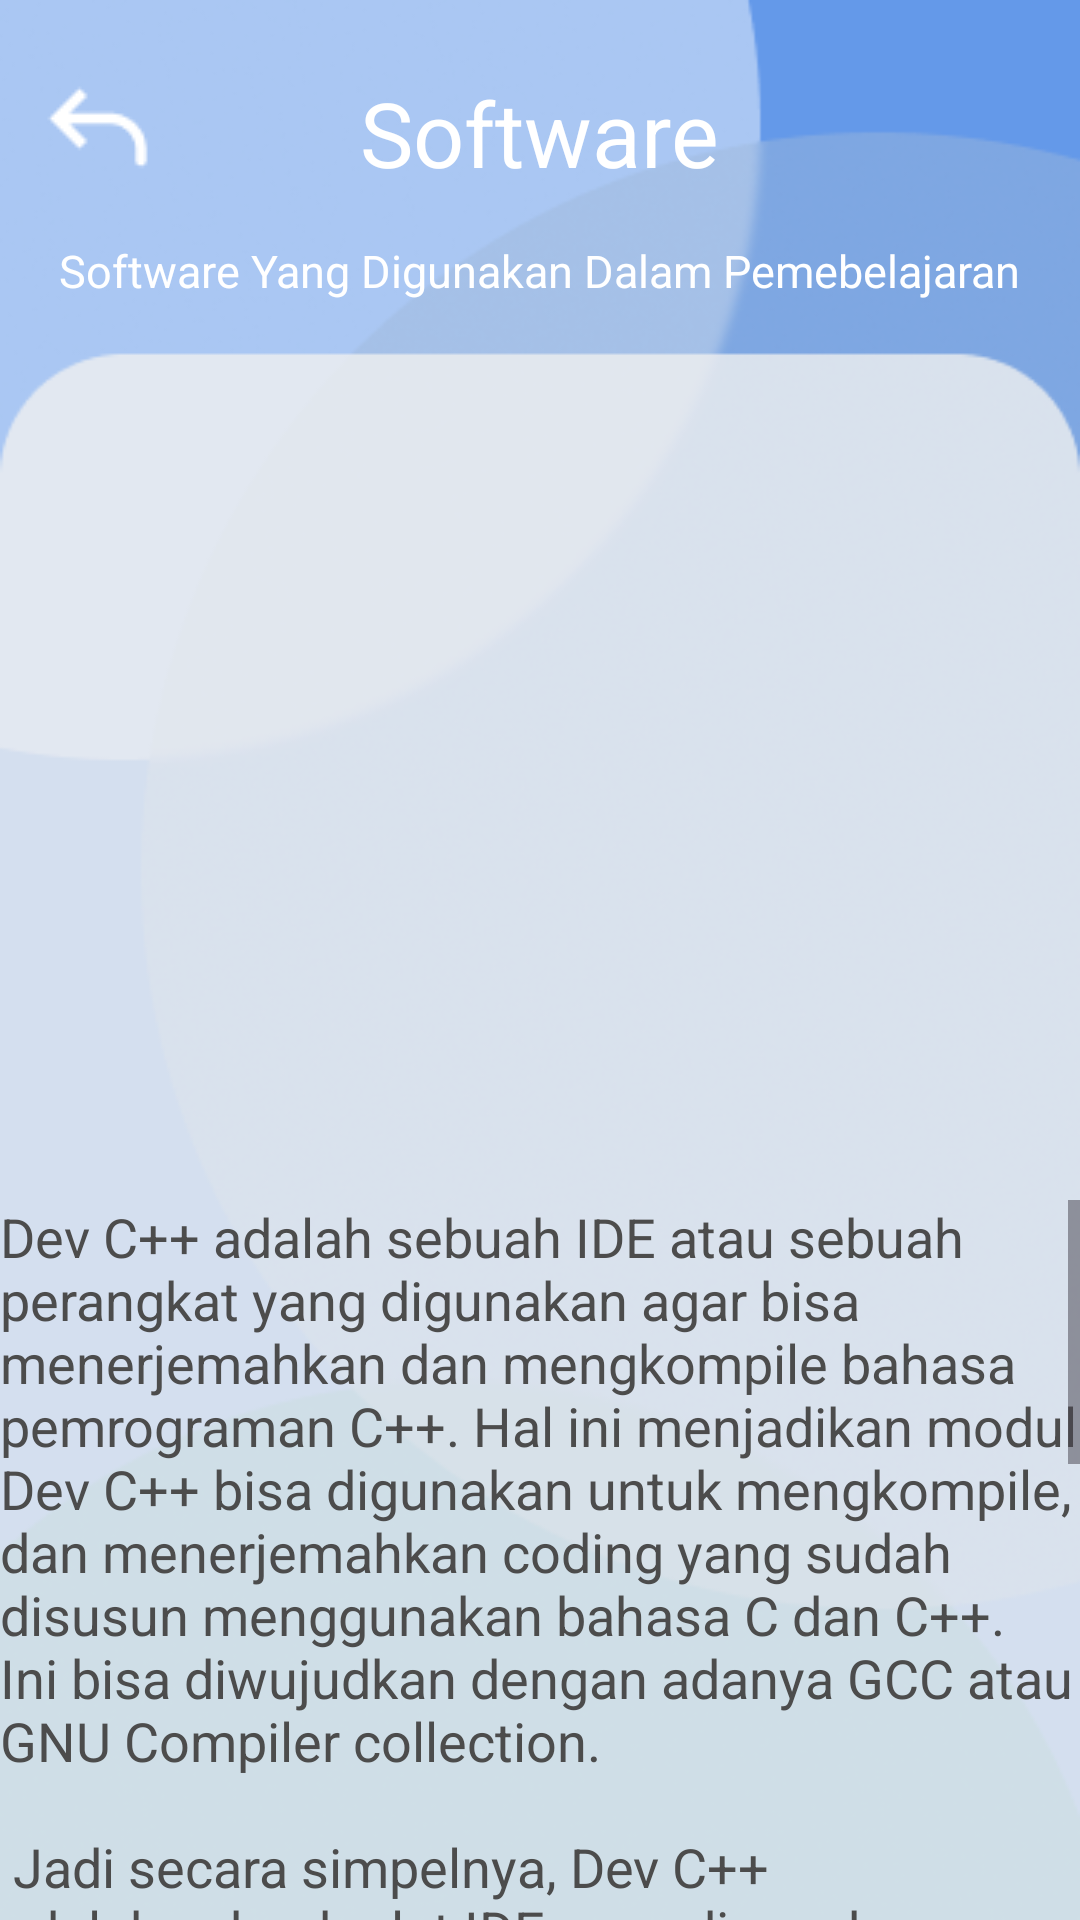

Named icons in this screenshot (1080px×1920px) and their bounding boxes, detection(x1, y1, x2, y2):
backbutton: detection(50, 89, 147, 166)
